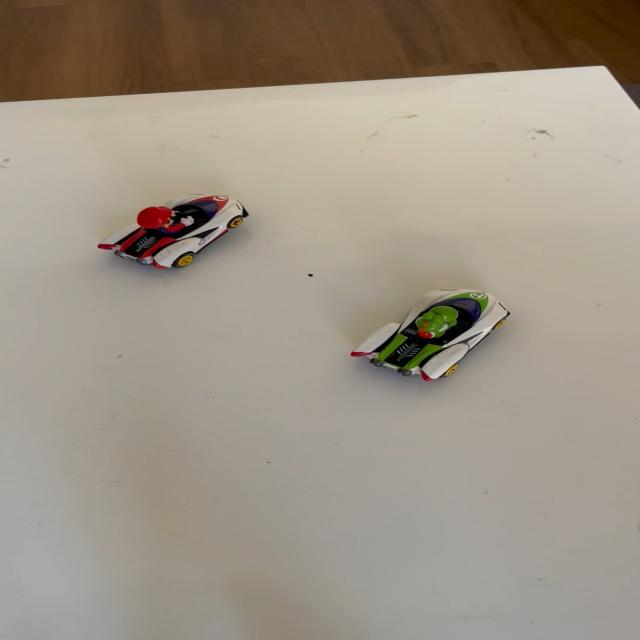mario: (83, 188, 263, 279)
yoshi: (332, 284, 524, 393)
